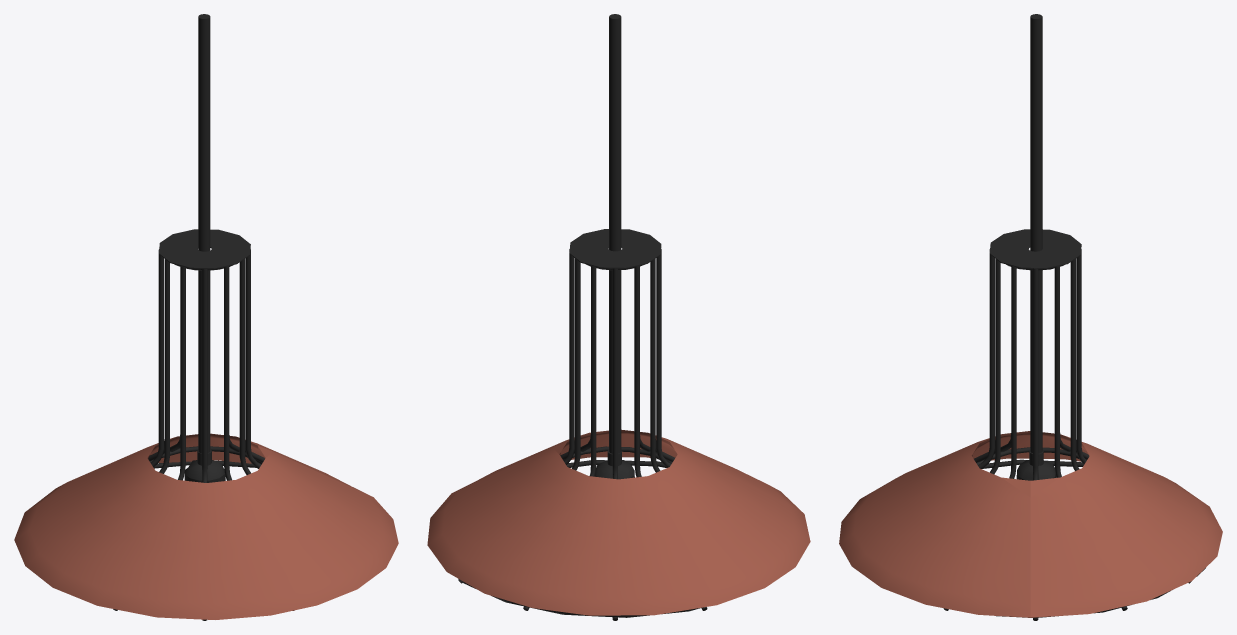
The model's file is lampara1.fbx.
3 renders of one model, left to right at view 1: azimuth 30°, elevation 25°; view 2: azimuth 150°, elevation 25°; view 3: azimuth 270°, elevation 25°, orthographic.
Parts seen in each view (by area): view 1: LAMPARA; view 2: LAMPARA; view 3: LAMPARA.
Boxes of the visible parts, x1,y1,x2,y2 form: LAMPARA: [14, 14, 398, 620]; LAMPARA: [427, 14, 810, 620]; LAMPARA: [839, 14, 1222, 620].
Size of the model in its own units: 31.85 by 51.57 by 31.82.
